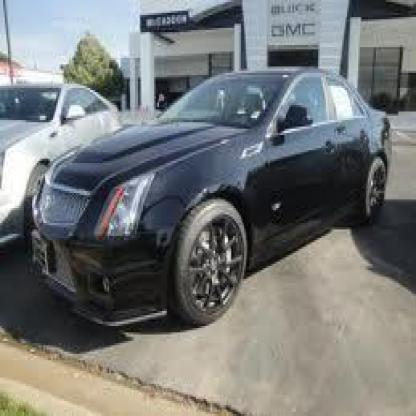Vehicle: (31, 64, 395, 330)
